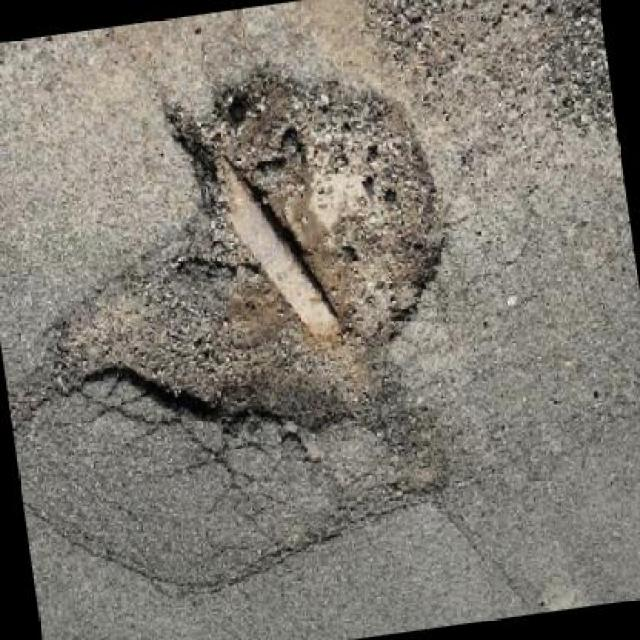pothole1: (13, 38, 479, 477)
